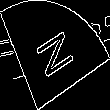N_SW: (31, 26, 79, 84)
